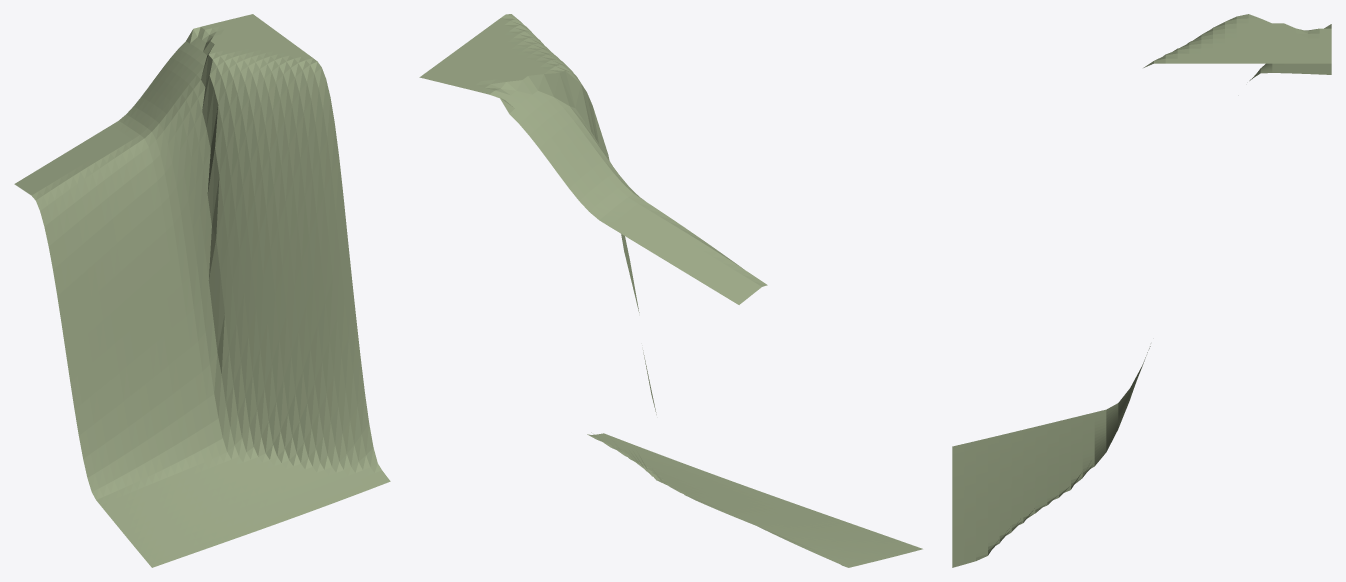
Rendered from alpine-12-12.glb.
3 views of the same model, side by side, from view 1: azimuth 30°, elevation 25°; view 2: azimuth 150°, elevation 25°; view 3: azimuth 270°, elevation 25° (orthographic). The views are drawn at different scales.
Visible parts, largest first — view 1: alpine-12-12; view 2: alpine-12-12; view 3: alpine-12-12.
Boxes of the visible parts, x1,y1,x2,y2 form: alpine-12-12: (14, 14, 390, 567); alpine-12-12: (419, 14, 922, 567); alpine-12-12: (952, 14, 1331, 567).
Size of the model in its own units: 256 by 405 by 256.
